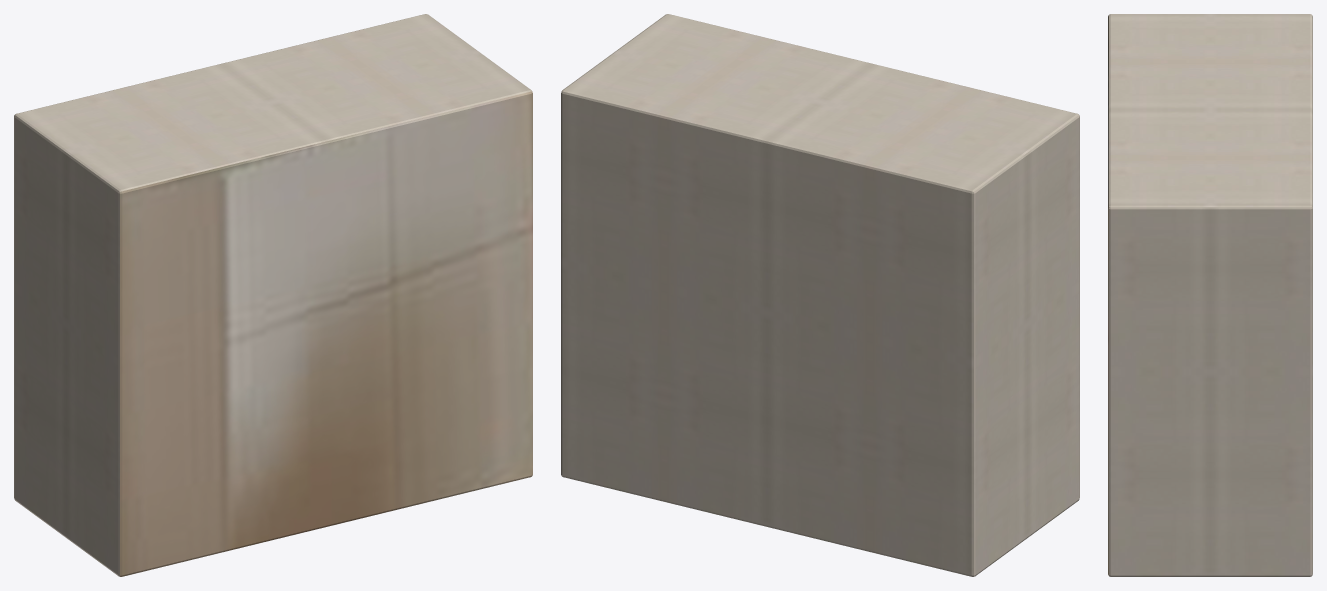
The model's file is mood-6.glb.
3 renders of one model, left to right at view 1: azimuth 30°, elevation 25°; view 2: azimuth 150°, elevation 25°; view 3: azimuth 270°, elevation 25°, orthographic. The views are drawn at different scales.
Parts seen in each view (by area): view 1: object; view 2: object; view 3: object.
Part boxes in pixels (bbox=[...]): object: bbox=[14, 14, 532, 576]; object: bbox=[561, 14, 1079, 576]; object: bbox=[1108, 14, 1312, 576].
Size of the model in its own units: 1.01 by 0.9 by 0.45.
Materials: 2 (2 with a texture image).
